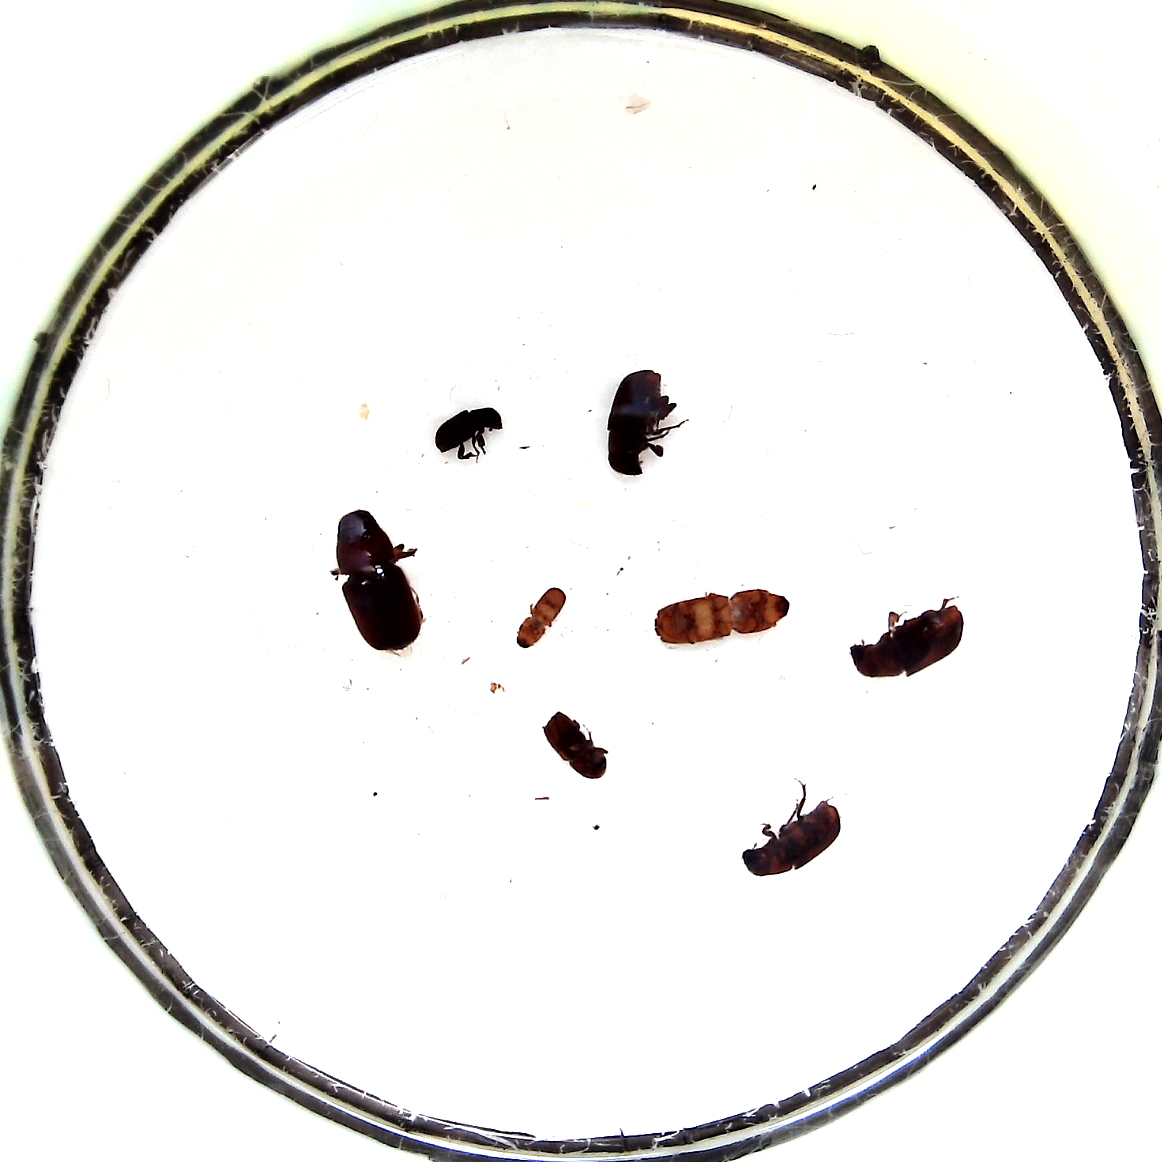Boerner: (652, 586, 791, 645)
Leconte: (332, 507, 424, 653), (845, 602, 963, 679), (738, 796, 845, 878), (604, 365, 674, 474)
Linnaeus: (543, 707, 609, 784)
acuminatus: (514, 583, 568, 650)
armandi: (429, 404, 501, 460)
